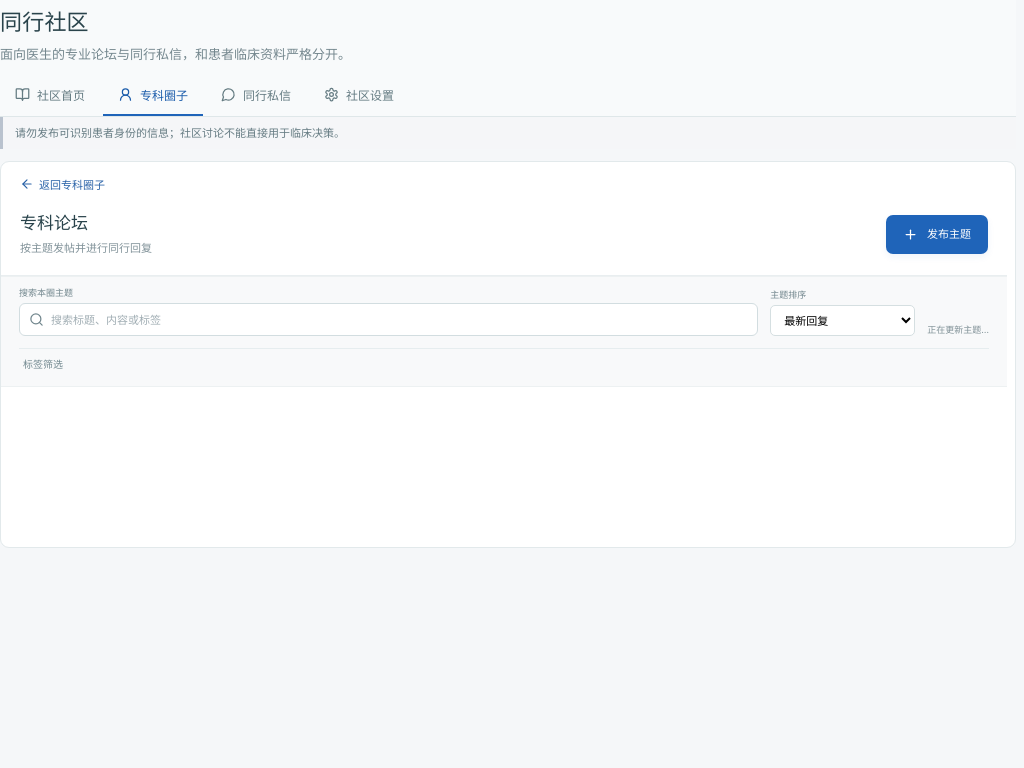
Test: CommunityPage › keeps a dedicated fixed-height post composer when case material is toggled
What coordinates should you click on to do the following:
click the button "发布主题"
I would click on:
 (937, 235)
Its box is x1=886 y1=215 x2=988 y2=254.
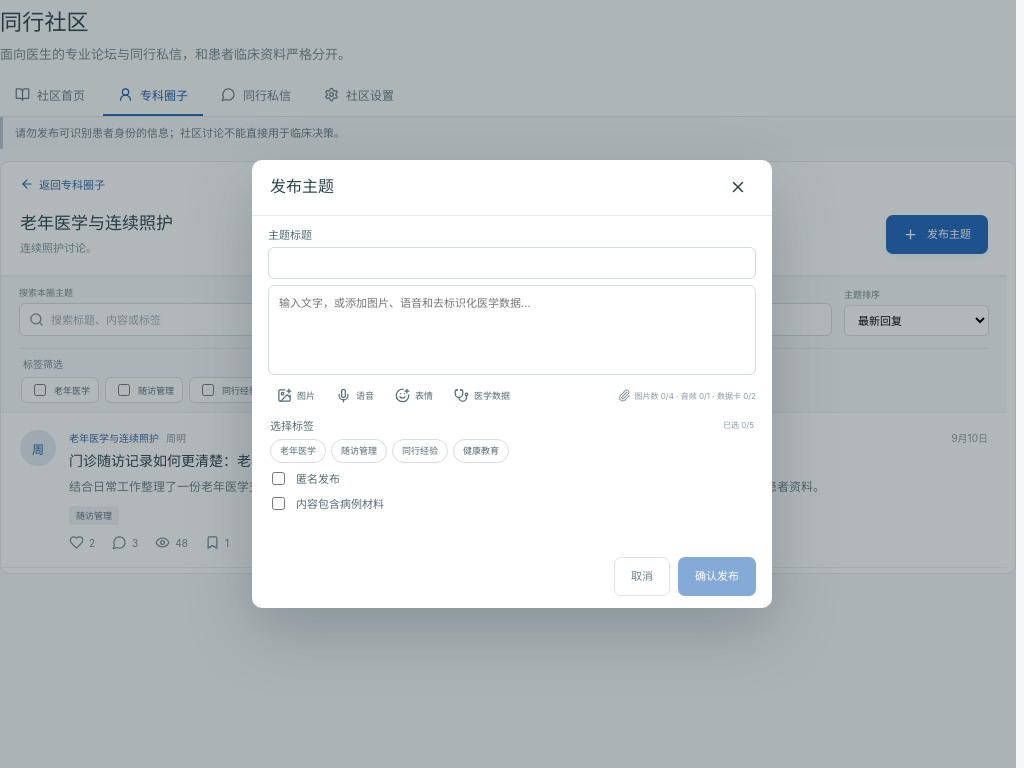
What coordinates should you click on to do the following:
click the checkbox labelled "内容包含病例材料"
I would click on:
 (278, 503)
Its box is x1=272 y1=497 x2=285 y2=510.
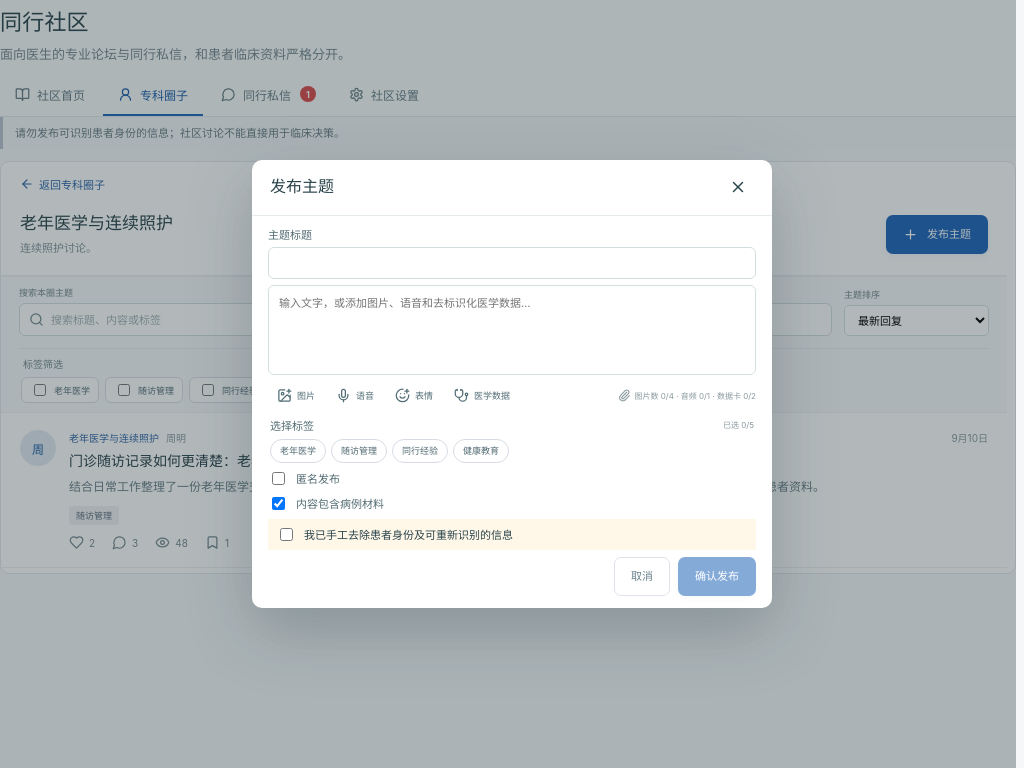
Expected: the checkbox labelled "我已手工去除患者身份及可重新识别的信息" is shown, x1=280 y1=528 x2=293 y2=541
